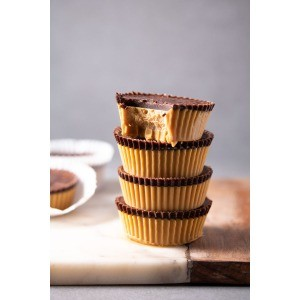peanut butter_brain food: (111, 87, 216, 239), (51, 165, 78, 204)
